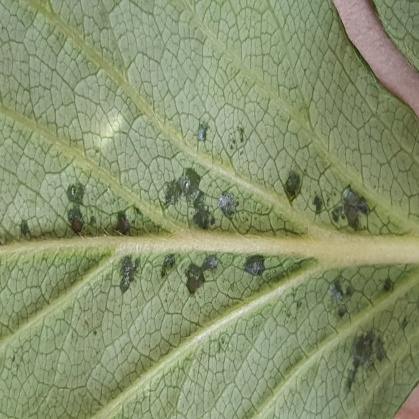Angular_LS: (2, 109, 410, 403)
